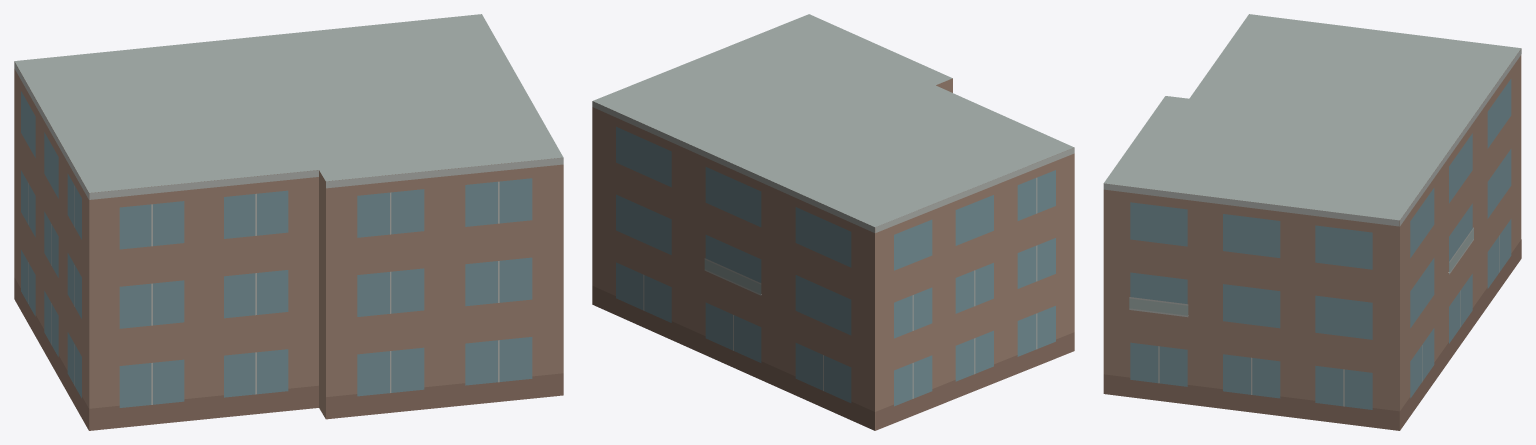
File: survey-upis-32491470.glb
3 views of the same model, side by side, from view 1: azimuth 30°, elevation 25°; view 2: azimuth 150°, elevation 25°; view 3: azimuth 270°, elevation 25° (orthographic). The views are drawn at different scales.
Visible parts, largest first — view 1: survey-upis-32491470.tmp; view 2: survey-upis-32491470.tmp; view 3: survey-upis-32491470.tmp.
Boxes of the visible parts, bbox=[...] form: survey-upis-32491470.tmp: bbox=[14, 14, 563, 430]; survey-upis-32491470.tmp: bbox=[592, 14, 1074, 430]; survey-upis-32491470.tmp: bbox=[1103, 14, 1521, 430].
Size of the model in its own units: 17.47 by 8.3 by 14.95.
